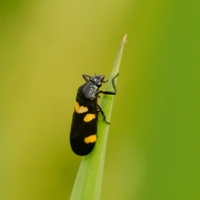insect: (70, 74, 118, 155)
